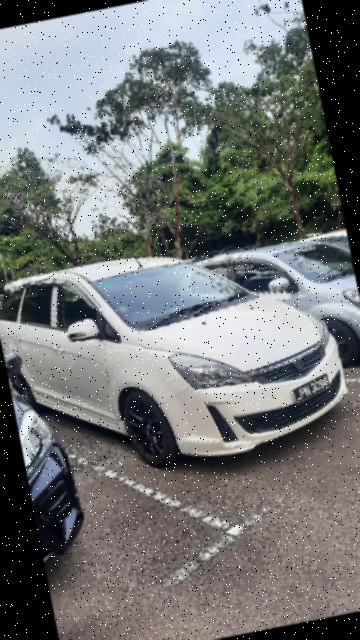License_Plate: (284, 370, 345, 409)
car: (1, 213, 359, 496)
